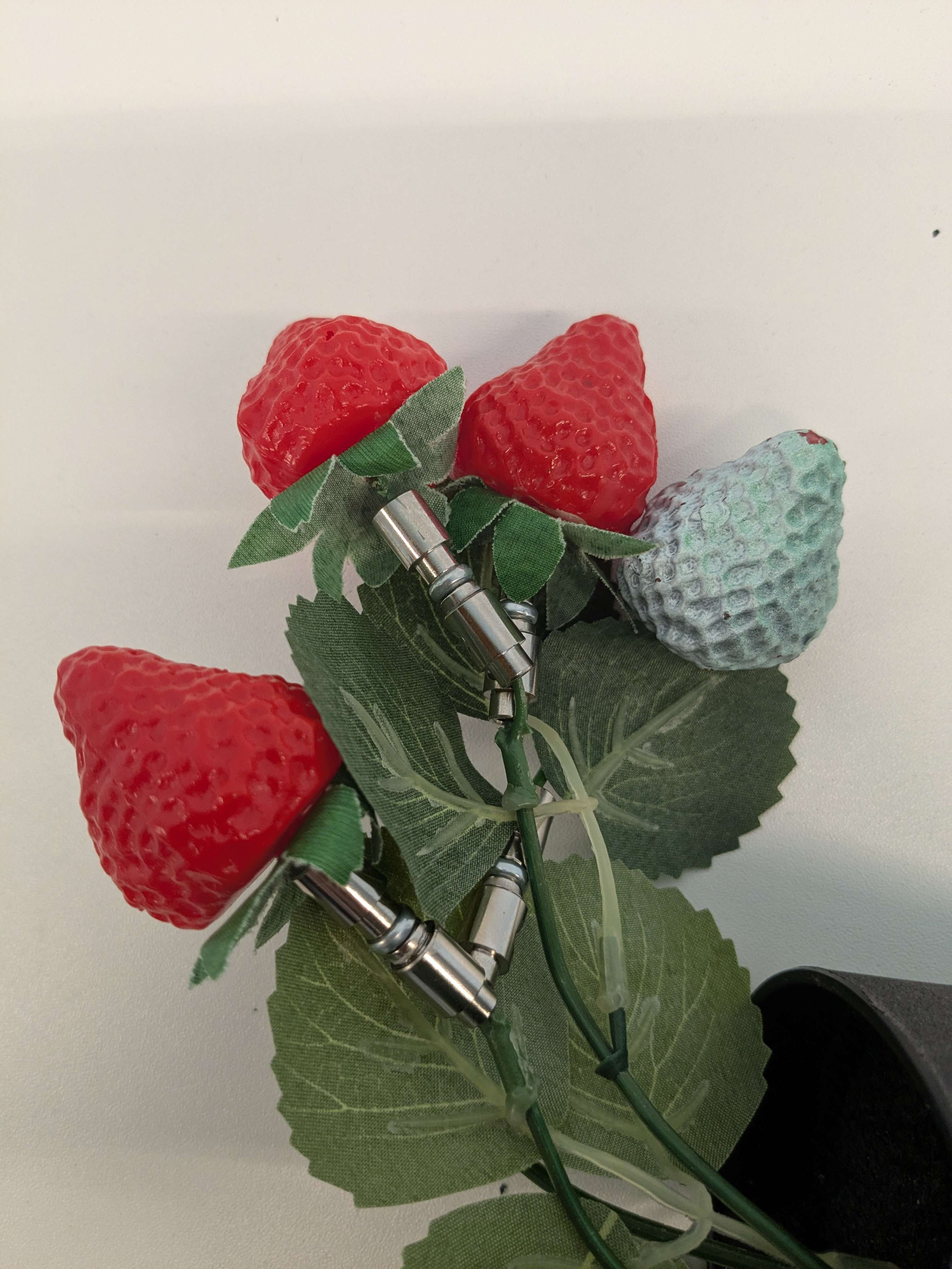Strawberry: (47, 636, 348, 936), (203, 296, 467, 529), (454, 303, 663, 544)
